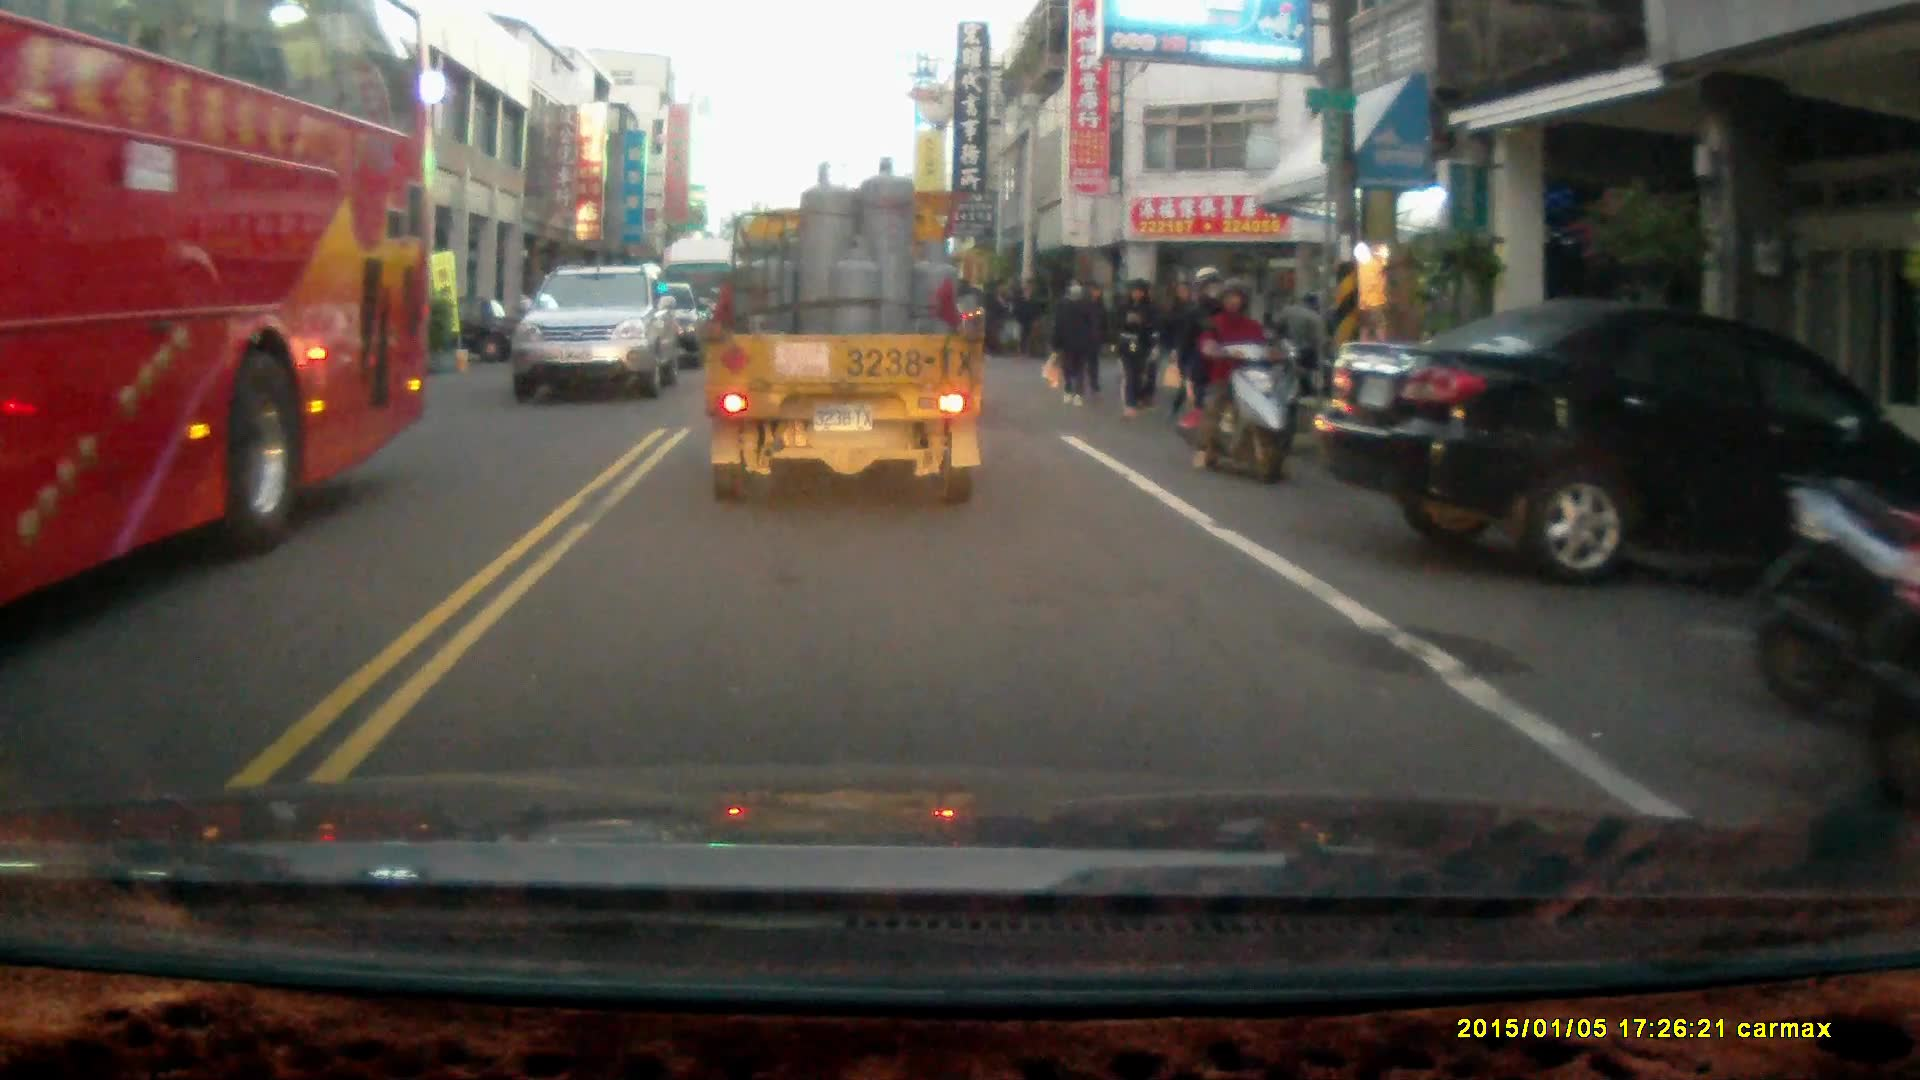pedestrian: (1160, 278, 1209, 417), (1118, 271, 1160, 418), (1049, 275, 1094, 406), (1072, 280, 1110, 397), (1010, 274, 1040, 360), (984, 275, 1013, 359)
rider: (1170, 263, 1282, 477)
vehicle: (1, 7, 432, 603), (1322, 302, 1920, 588), (706, 155, 991, 507), (507, 265, 680, 409)
